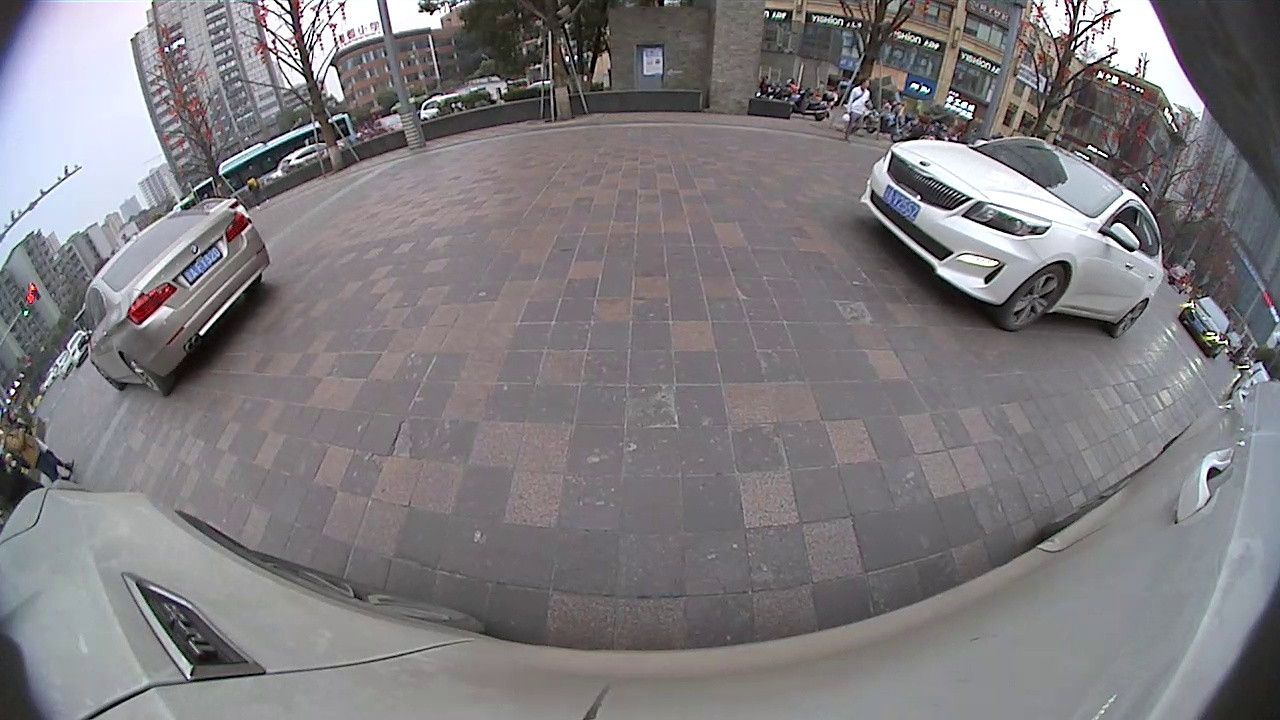bus: (175, 109, 356, 212)
car: (858, 134, 1166, 340), (83, 195, 272, 399), (1177, 294, 1233, 359)
front: (994, 261, 1071, 335)
person: (1, 427, 75, 459), (851, 75, 872, 144)
rear: (117, 353, 170, 400), (1109, 296, 1150, 343)
